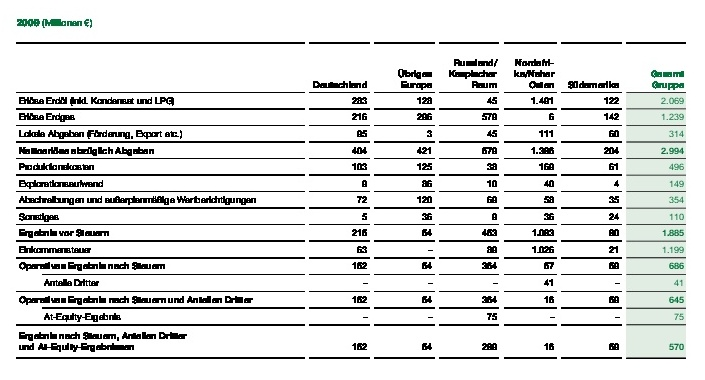table: (0, 0, 705, 380)
